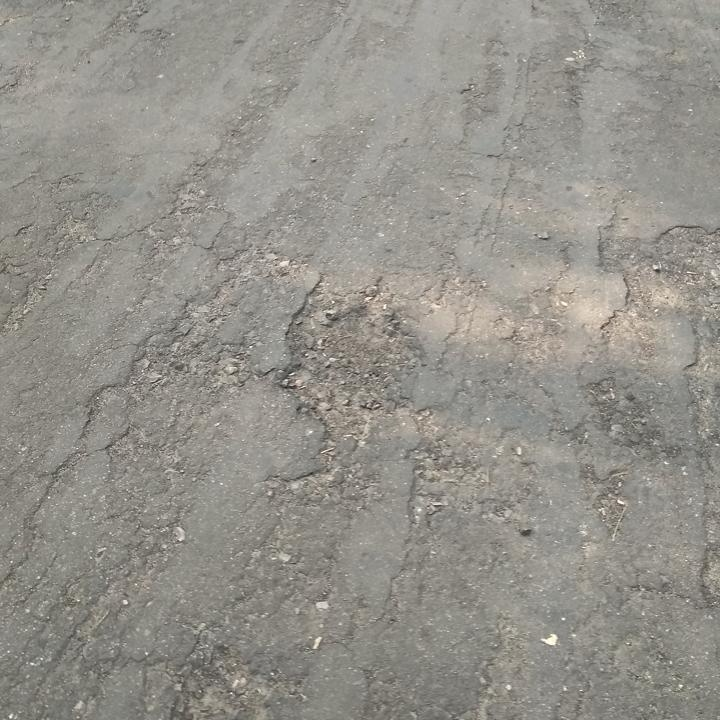pothole: (276, 286, 435, 442), (169, 646, 304, 720), (622, 215, 720, 311)
